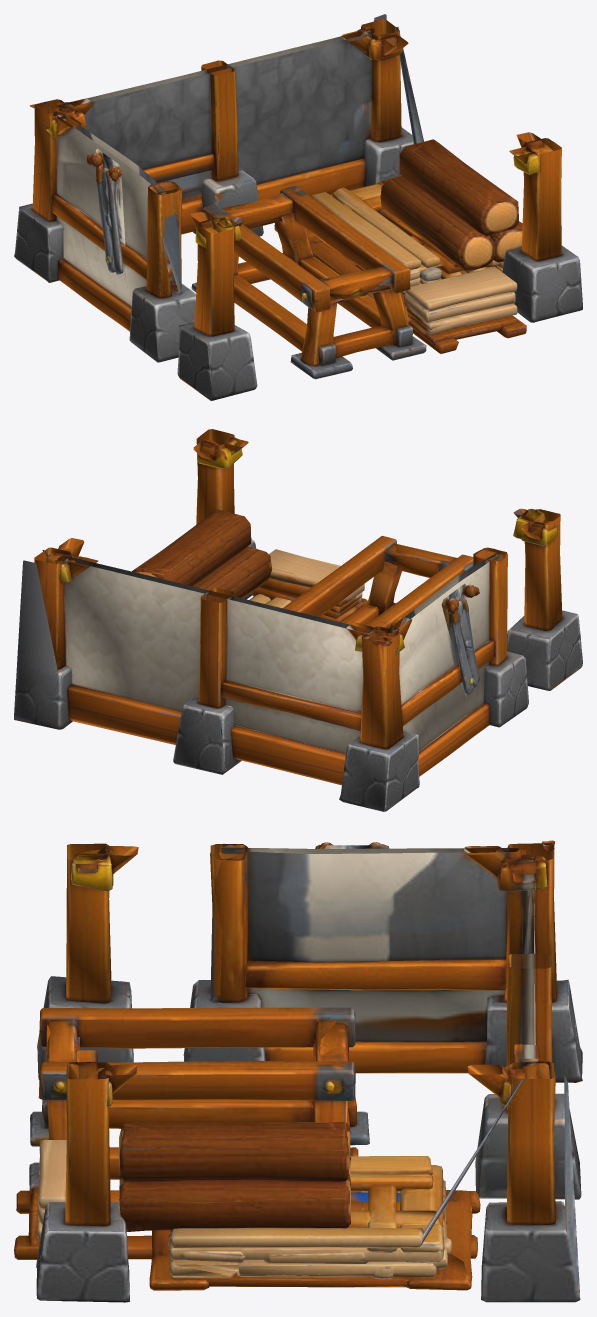
Rendered from aserradero_e2.glb.
The picture shows the model from 3 angles, top to bottom: view 1: azimuth 30°, elevation 25°; view 2: azimuth 150°, elevation 25°; view 3: azimuth 270°, elevation 25°; orthographic projection. The views are drawn at different scales.
Parts seen in each view (by area): view 1: aserradero_cuerpo; view 2: aserradero_cuerpo; view 3: aserradero_cuerpo.
Boxes of the visible parts, x1,y1,x2,y2 form: aserradero_cuerpo: (14, 14, 582, 400); aserradero_cuerpo: (14, 429, 582, 811); aserradero_cuerpo: (14, 840, 582, 1302).
Bounding box in the file's own units: 1.9 × 0.7891 × 1.84.
1 material, 1 textured.
